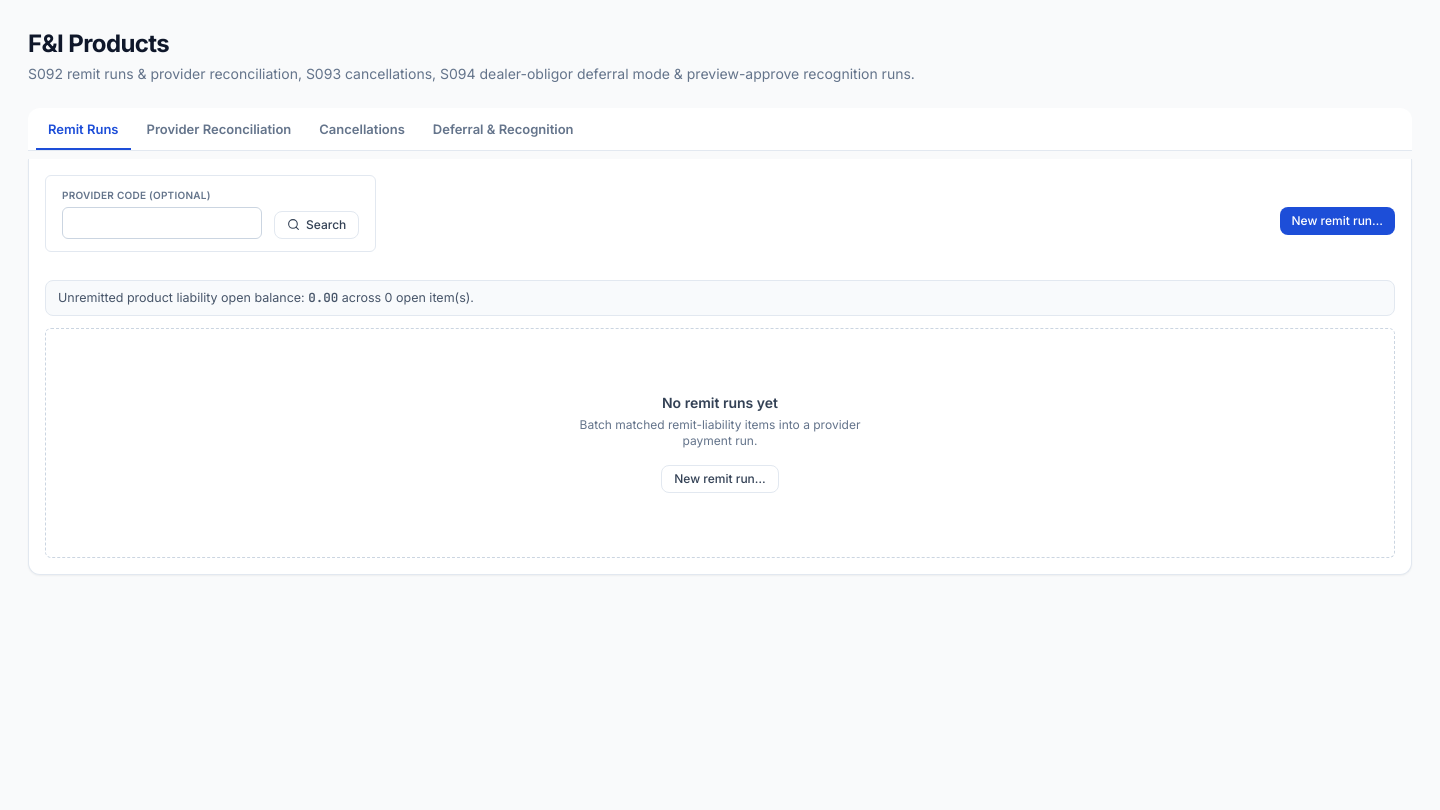
it: FniProducts — Deferral bookings + schedule-authoritative tie-out › discloses when no schedule mapping is configured instead of fabricating a tie-out
Click the button with test id "fni-products-tab-deferral": [503, 131] box [421,112,586,150]
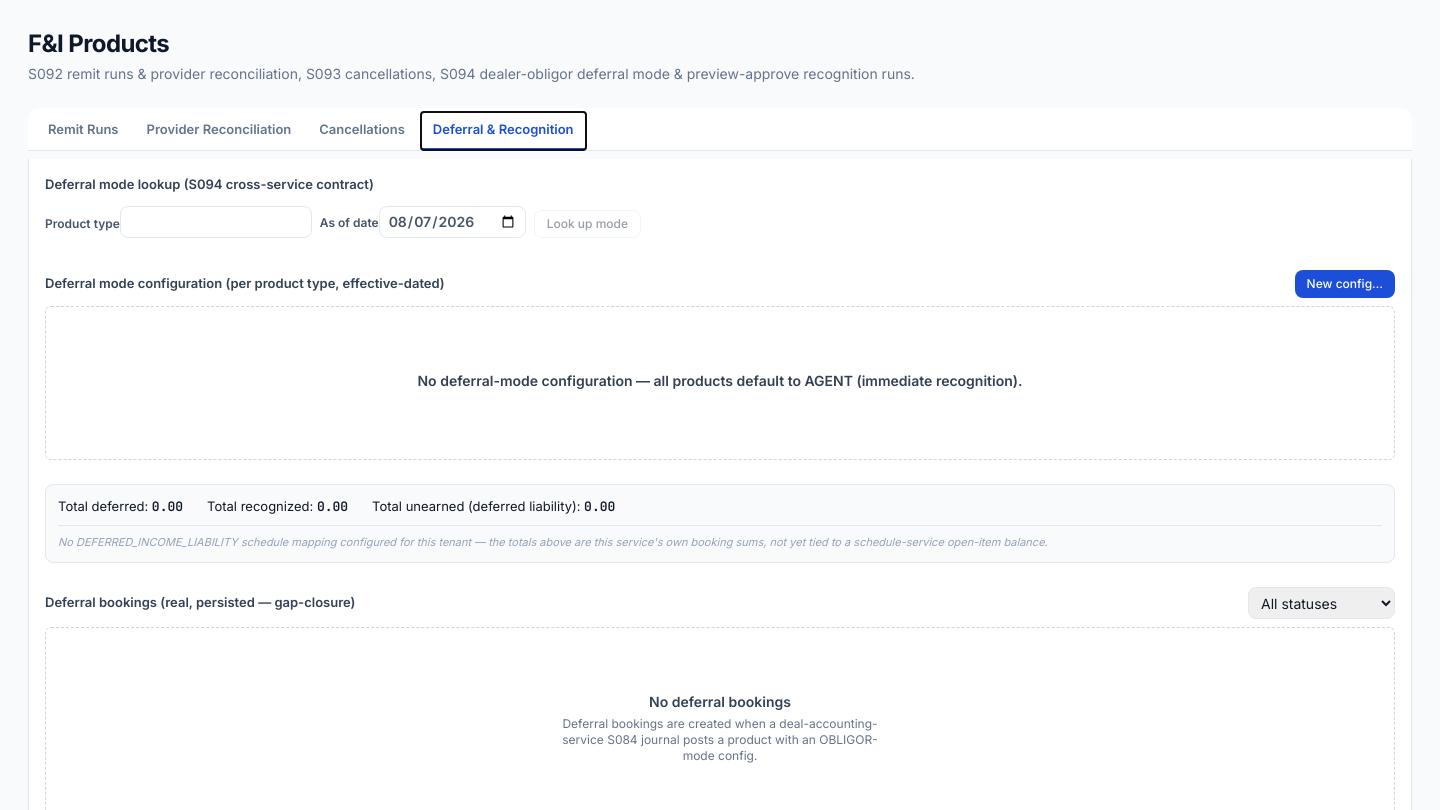
Expected: the element with test id "deferral-liability-tieout-banner" shows "No DEFERRED_INCOME_LIABILITY schedule mapping configured", [58,534,1048,548]
